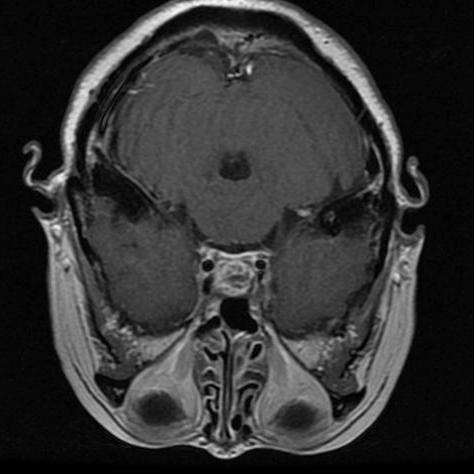Tumour-Pituitary: (195, 243, 276, 302)
